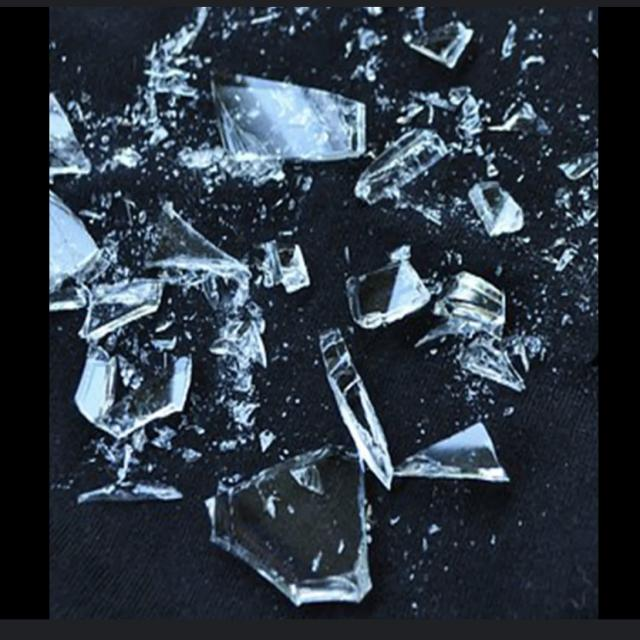PecahanKaca: (49, 7, 596, 610), (204, 442, 375, 607), (208, 69, 368, 166)
